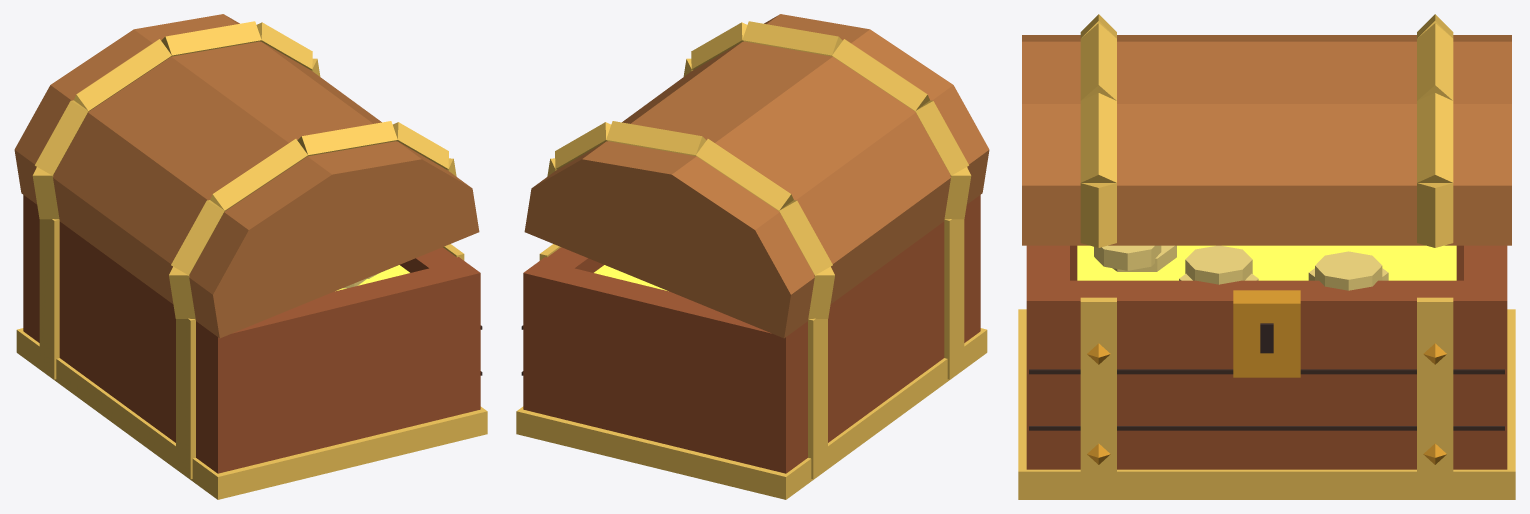
Rendered from treasurechest.glb.
The picture shows the model from 3 angles, left to right: view 1: azimuth 30°, elevation 25°; view 2: azimuth 150°, elevation 25°; view 3: azimuth 270°, elevation 25°; orthographic projection. The views are drawn at different scales.
Parts seen in each view (by area): view 1: lid_wood, chest_wood, gold_trim; view 2: lid_wood, chest_wood, gold_trim; view 3: lid_wood, chest_wood, gold_trim, treasure_glow, lock, coin, interior.
Boxes of the visible parts, left/top/right/bottom form: lid_wood: left=14, top=14, right=479, bottom=338; chest_wood: left=23, top=195, right=480, bottom=473; gold_trim: left=16, top=21, right=487, bottom=499; lid_wood: left=524, top=14, right=989, bottom=338; chest_wood: left=523, top=195, right=980, bottom=473; gold_trim: left=516, top=21, right=987, bottom=499; lid_wood: left=1022, top=35, right=1511, bottom=245; chest_wood: left=1026, top=245, right=1507, bottom=469; gold_trim: left=1018, top=14, right=1515, bottom=499; treasure_glow: left=1077, top=245, right=1456, bottom=280; lock: left=1087, top=290, right=1446, bottom=464; coin: left=1094, top=245, right=1388, bottom=290; interior: left=1029, top=369, right=1504, bottom=430.
Bounding box in the file's own units: 0.9023 × 0.9008 × 1.03.
